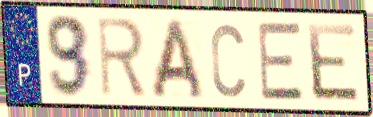9: (44, 12, 94, 100)
A: (149, 16, 207, 102)
C: (208, 20, 248, 100)
E: (304, 21, 363, 105), (255, 20, 307, 102)
R: (95, 14, 149, 99)
